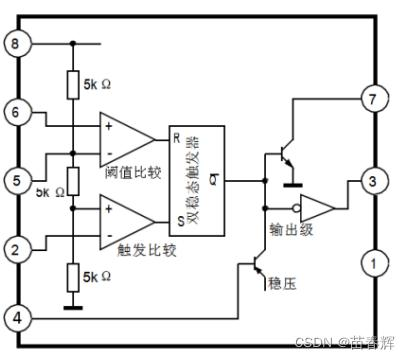bistable flip-flop: (169, 126, 225, 235)
comparator1: (99, 112, 155, 169), (100, 195, 156, 250)
discharge circuit: (281, 137, 295, 169)
output circuit: (292, 193, 337, 223)
reset circuit: (252, 247, 268, 281)
resistance: (67, 70, 80, 99), (67, 264, 79, 292), (68, 167, 78, 196)
